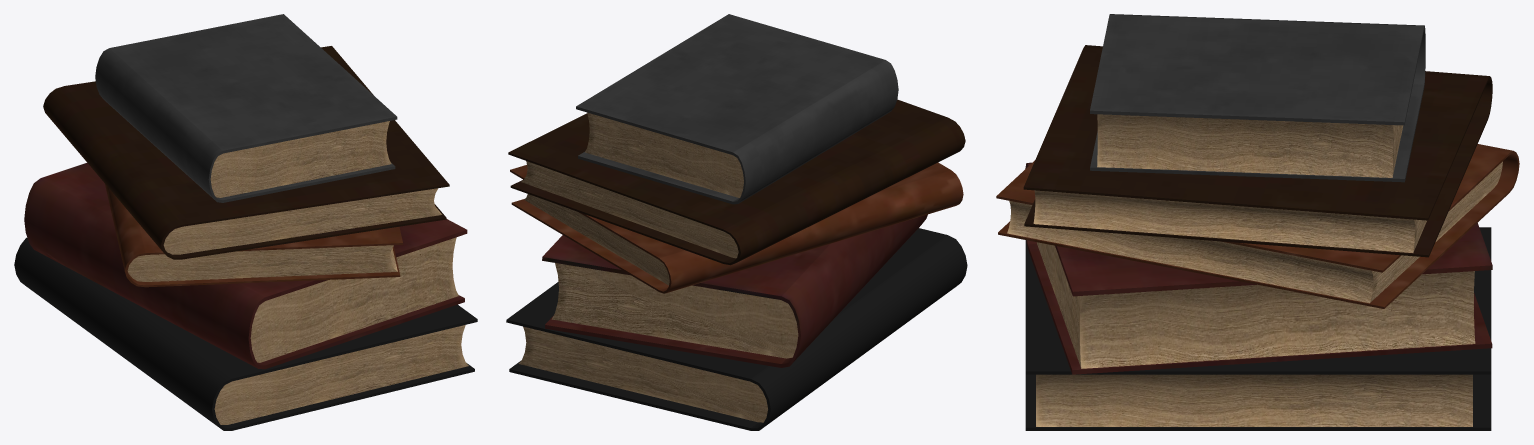
The model's file is book-stack.glb.
The picture shows the model from 3 angles, left to right: view 1: azimuth 30°, elevation 25°; view 2: azimuth 150°, elevation 25°; view 3: azimuth 270°, elevation 25°; orthographic projection. The views are drawn at different scales.
Visible parts, largest first — view 1: defaultMaterial (×2); view 2: defaultMaterial (×2); view 3: defaultMaterial (×2).
Boxes of the visible parts, <box> form: defaultMaterial (×2): <box>14,14,477,430</box>; defaultMaterial (×2): <box>506,14,967,430</box>; defaultMaterial (×2): <box>996,14,1519,430</box>.
Size of the model in its own units: 0.3697 by 0.25 by 0.4063.
2 materials, 2 textured.
